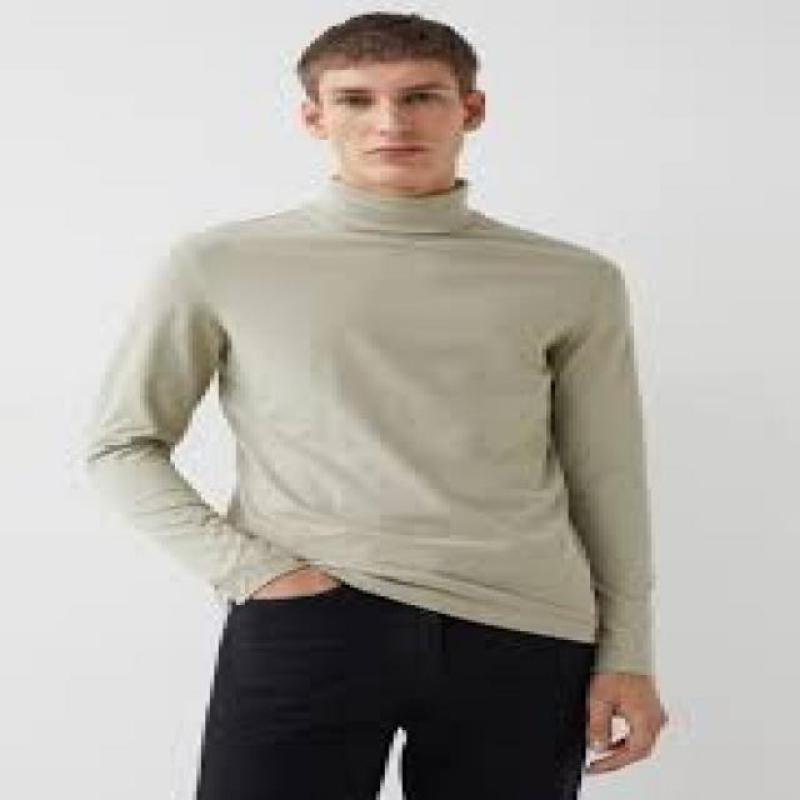sweater: (68, 175, 659, 682)
trousers: (197, 583, 593, 800)
